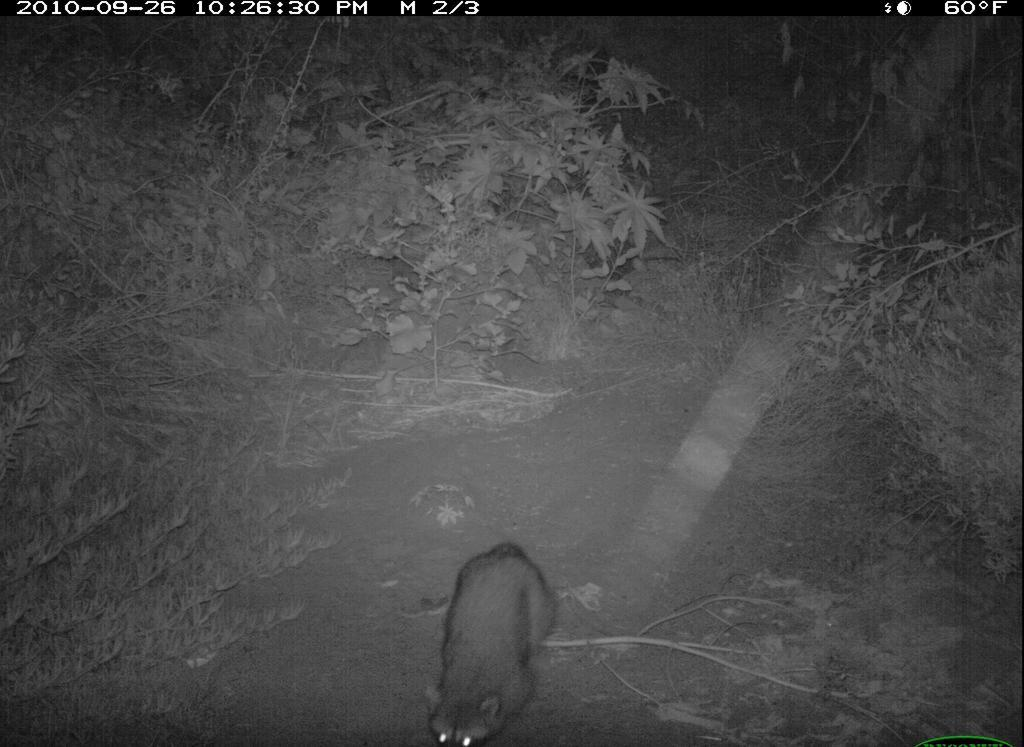raccoon: (414, 530, 569, 745)
